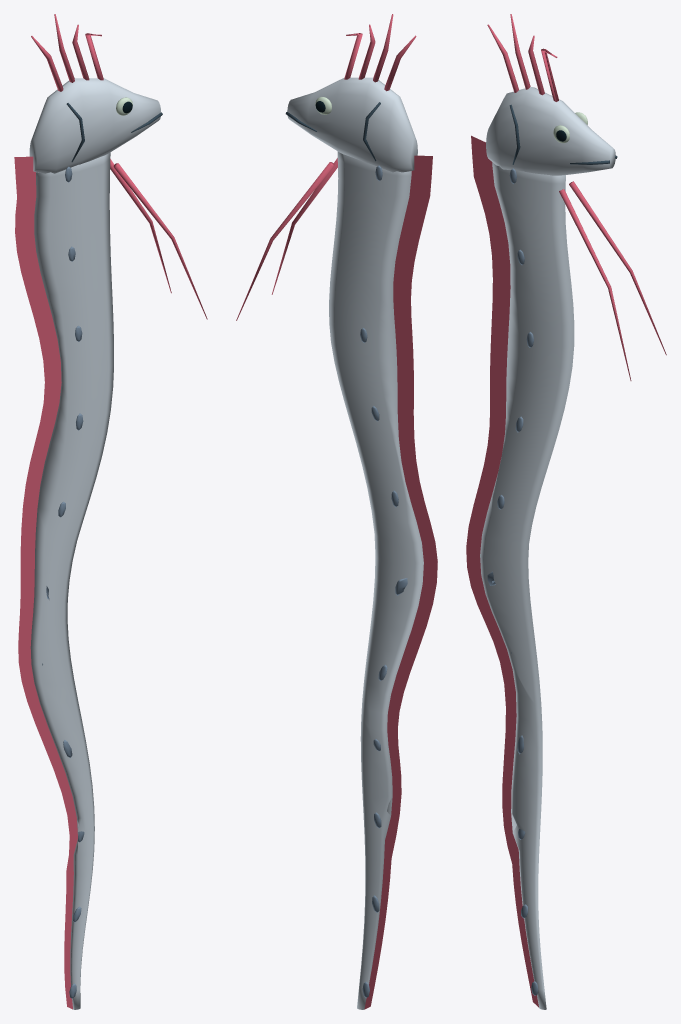
File: oarfish.glb
3 renders of one model, left to right at view 1: azimuth 30°, elevation 25°; view 2: azimuth 150°, elevation 25°; view 3: azimuth 330°, elevation 25°, orthographic.
Visible parts, largest first — view 1: Upright oarfish; view 2: Upright oarfish; view 3: Upright oarfish.
Part boxes in pixels (x1=…): Upright oarfish: x1=14, y1=14, x2=207, y2=1009; Upright oarfish: x1=236, y1=14, x2=437, y2=1009; Upright oarfish: x1=466, y1=14, x2=666, y2=1009.
Bounding box in the file's own units: 1.03 × 5.56 × 0.3635.
